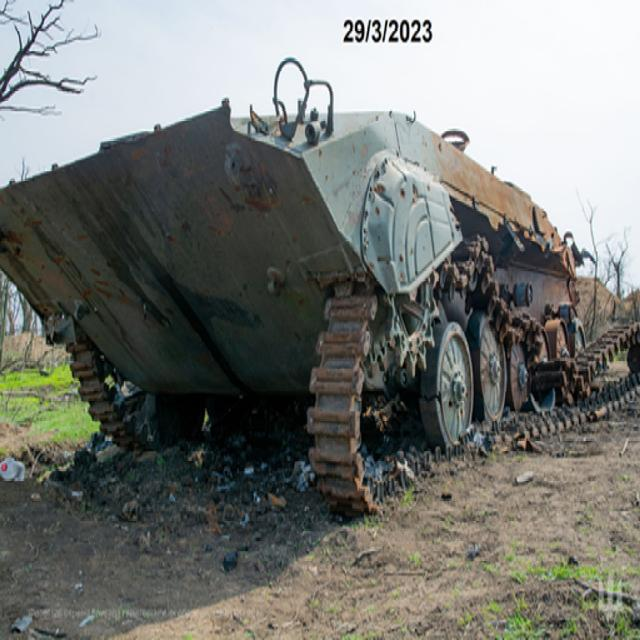APC-IFV: (0, 80, 591, 473)
